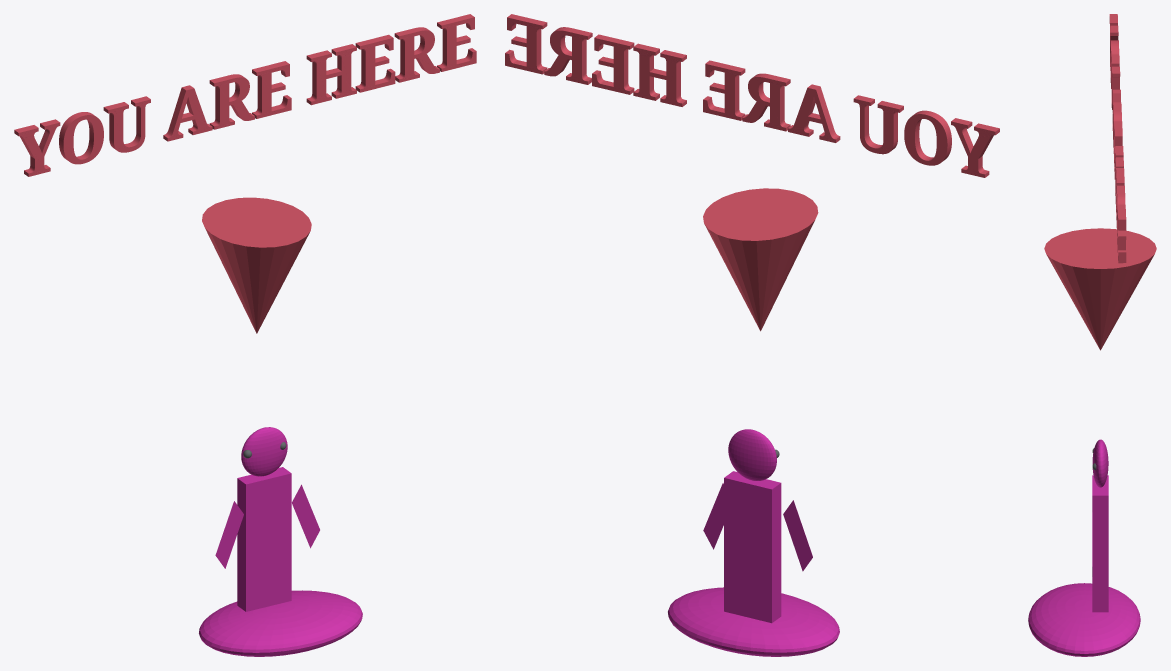
The model's file is YOU ARE HERE FIGURE.glb.
3 views of the same model, side by side, from view 1: azimuth 30°, elevation 25°; view 2: azimuth 150°, elevation 25°; view 3: azimuth 270°, elevation 25° (orthographic). The views are drawn at different scales.
Parts seen in each view (by area): view 1: Mesh_Mesh_head_geo.001_lambert2SG.001; view 2: Mesh_Mesh_head_geo.001_lambert2SG.001; view 3: Mesh_Mesh_head_geo.001_lambert2SG.001.
Boxes of the visible parts, bbox=[...] form: Mesh_Mesh_head_geo.001_lambert2SG.001: bbox=[14, 14, 476, 656]; Mesh_Mesh_head_geo.001_lambert2SG.001: bbox=[505, 14, 999, 656]; Mesh_Mesh_head_geo.001_lambert2SG.001: bbox=[1028, 14, 1156, 656].
Size of the model in its own units: 30.39 by 35 by 8.
